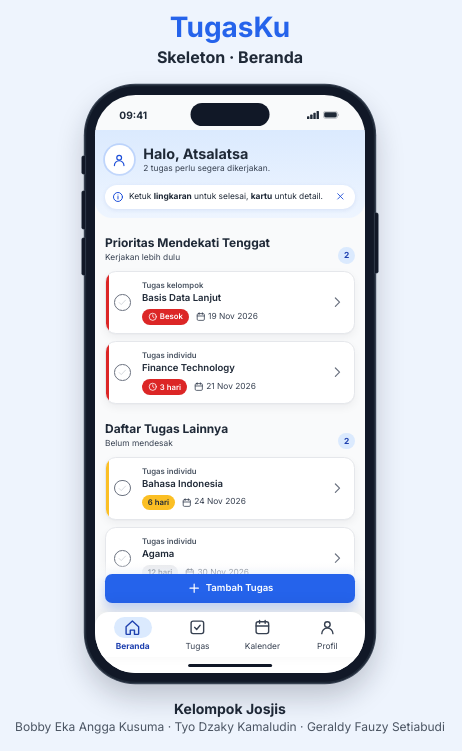
Test: App › ubah tugas: isian terisi, perubahan tersimpan, dan muncul pesan
The width and height of the screenshot is (462, 751).
Click the link "Tugas individu Agama 12 hari 30 Nov 2026" at (158, 553), box [142,536,344,580]
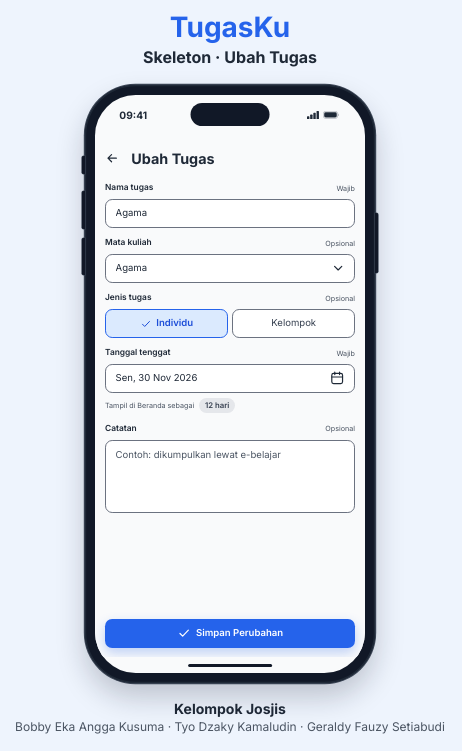
expect the field labelled "Nama tugas" holds "Agama": met
Replace the text in the field labelled "Nama tugas" with "Agama Islam" at (230, 214), box [105,199,355,228]
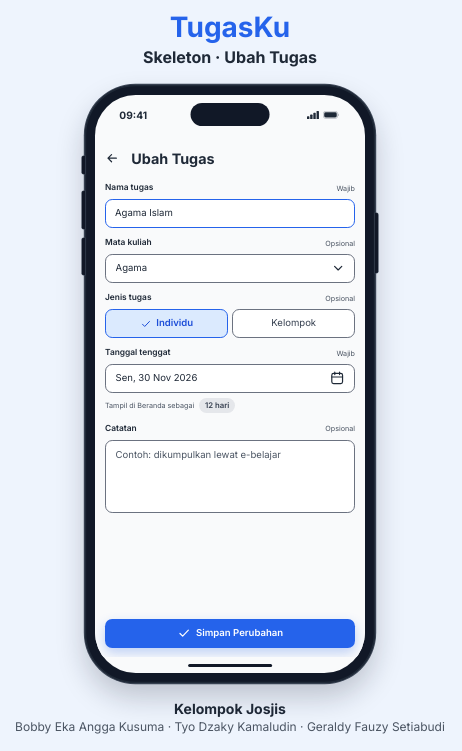
Click the button "Simpan Perubahan" at (230, 633), box [105,619,355,648]
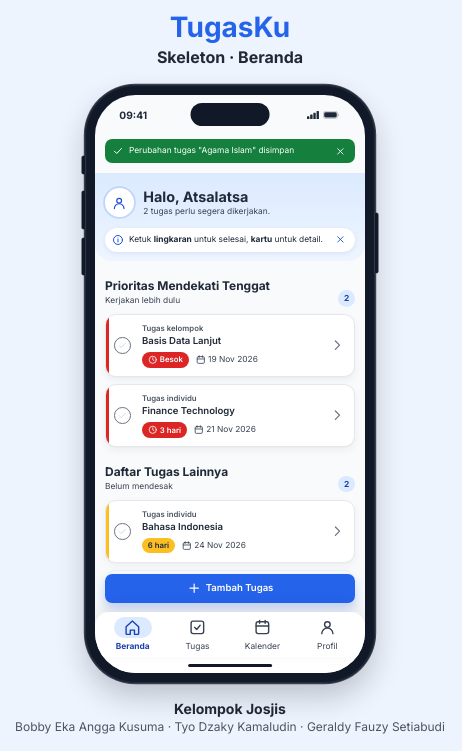
expect the text "Perubahan tugas \"Agama Islam\" disimpan" is shown: met, box [129,145,294,155]
expect the text "Agama Islam" is shown: met, box [142,591,201,602]
